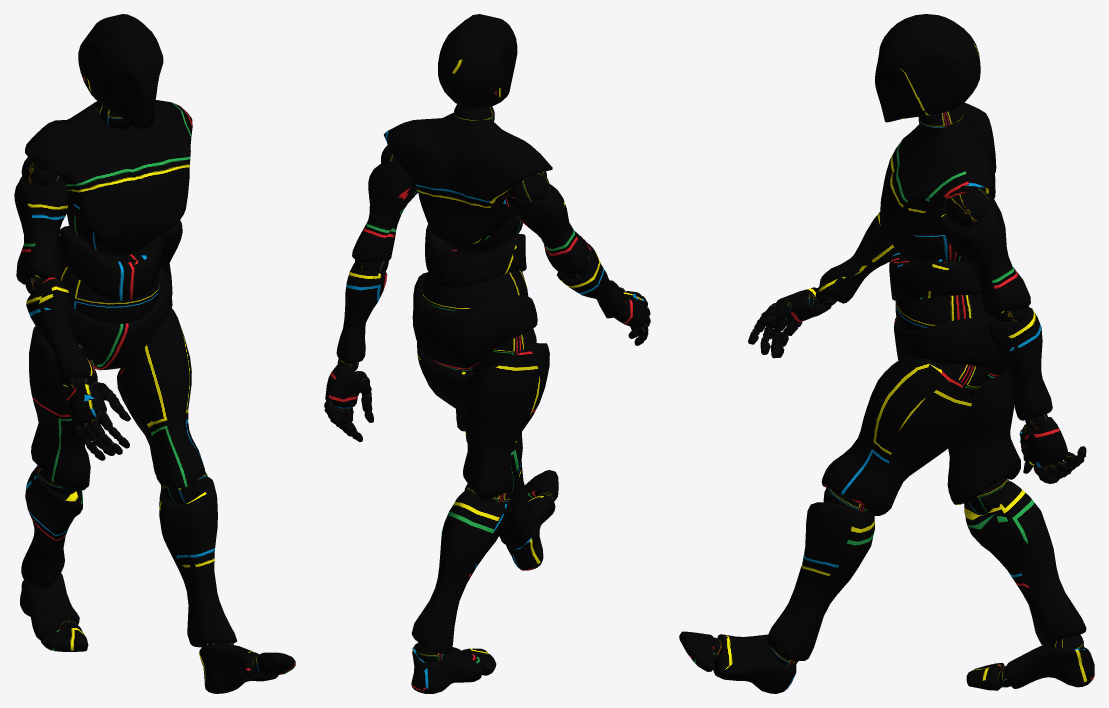
Rendered from y-bot-origin_000018.obj.
3 views of the same model, side by side, from view 1: azimuth 30°, elevation 25°; view 2: azimuth 150°, elevation 25°; view 3: azimuth 270°, elevation 25° (orthographic). The views are drawn at different scales.
Parts seen in each view (by area): view 1: Alpha_Surface_Alpha_SurfaceMesh, Alpha_Joints_Alpha_JointsMesh; view 2: Alpha_Surface_Alpha_SurfaceMesh, Alpha_Joints_Alpha_JointsMesh; view 3: Alpha_Surface_Alpha_SurfaceMesh, Alpha_Joints_Alpha_JointsMesh.
Part boxes in pixels (x1=…): Alpha_Surface_Alpha_SurfaceMesh: x1=14, y1=14, x2=295, y2=693; Alpha_Joints_Alpha_JointsMesh: x1=21, y1=101, x2=261, y2=675; Alpha_Surface_Alpha_SurfaceMesh: x1=324, y1=14, x2=650, y2=693; Alpha_Joints_Alpha_JointsMesh: x1=324, y1=104, x2=649, y2=662; Alpha_Surface_Alpha_SurfaceMesh: x1=679, y1=14, x2=1094, y2=693; Alpha_Joints_Alpha_JointsMesh: x1=714, y1=106, x2=1084, y2=687.
Bounding box in the file's own units: 0.5923 × 1.76 × 0.9736.
